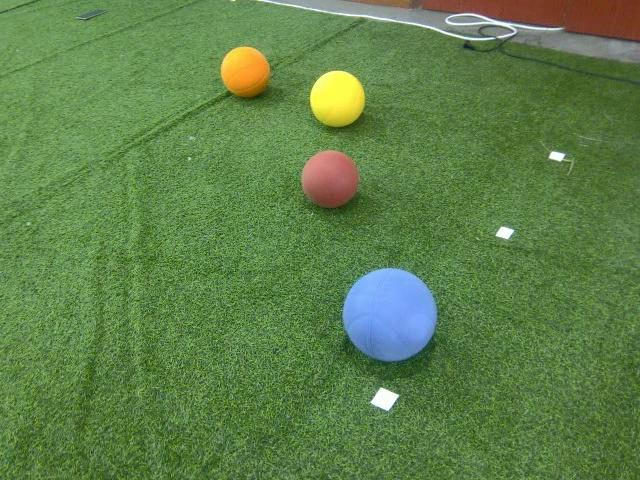blue_ball: (342, 268, 438, 363)
orange_ball: (220, 46, 269, 100)
red_ball: (300, 149, 360, 212)
yellow_ball: (311, 69, 364, 130)
